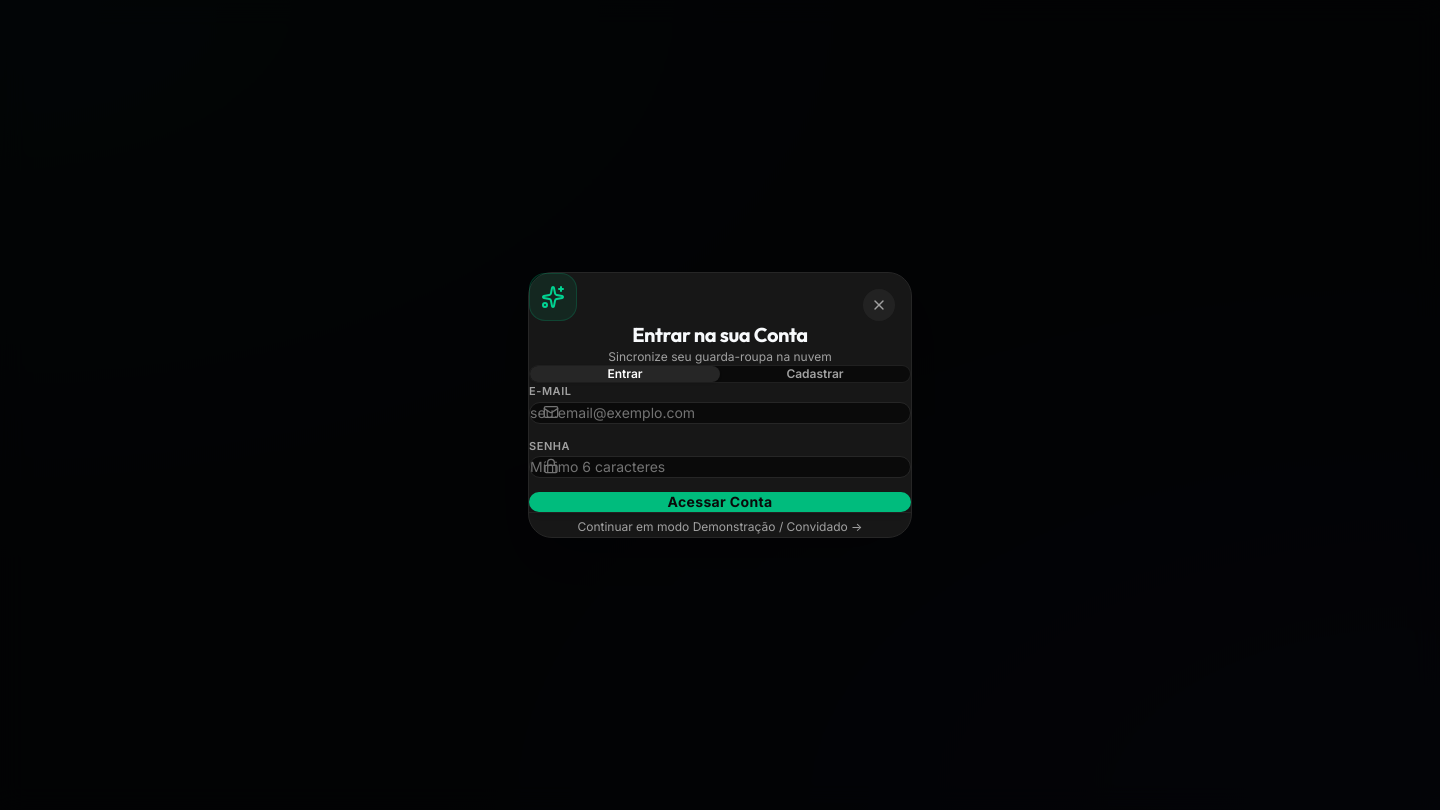
Test: Agente de Automação de UI: Modal de Autenticação Supabase › deve alternar entre modo Login e modo Cadastro
Check: the heading "Entrar na sua Conta" is shown, box [632,322,808,347]
Click the button "Cadastrar" at (815, 374), box [720,366,910,382]
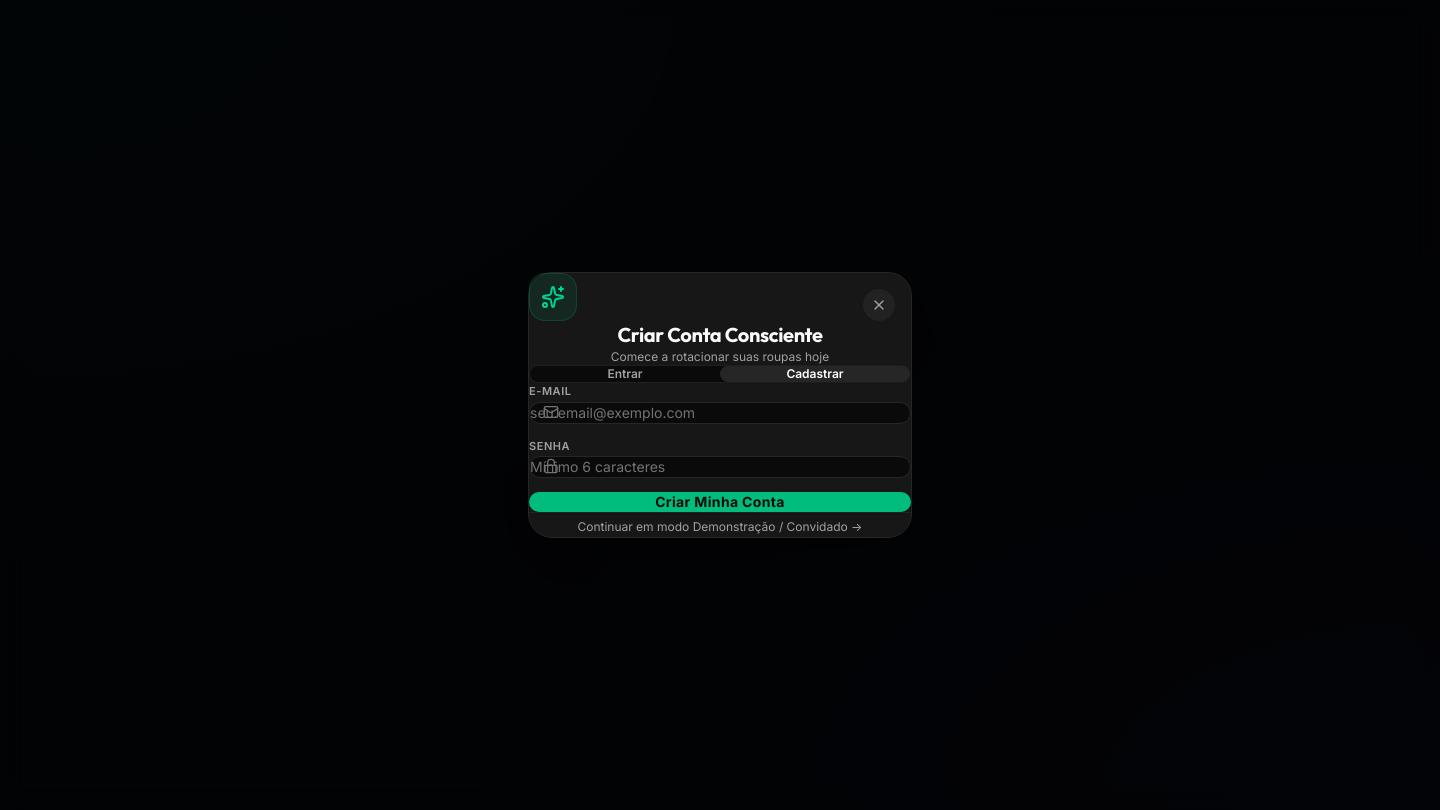
Check: the heading "Criar Conta Consciente" is shown, box [618,322,822,347]
